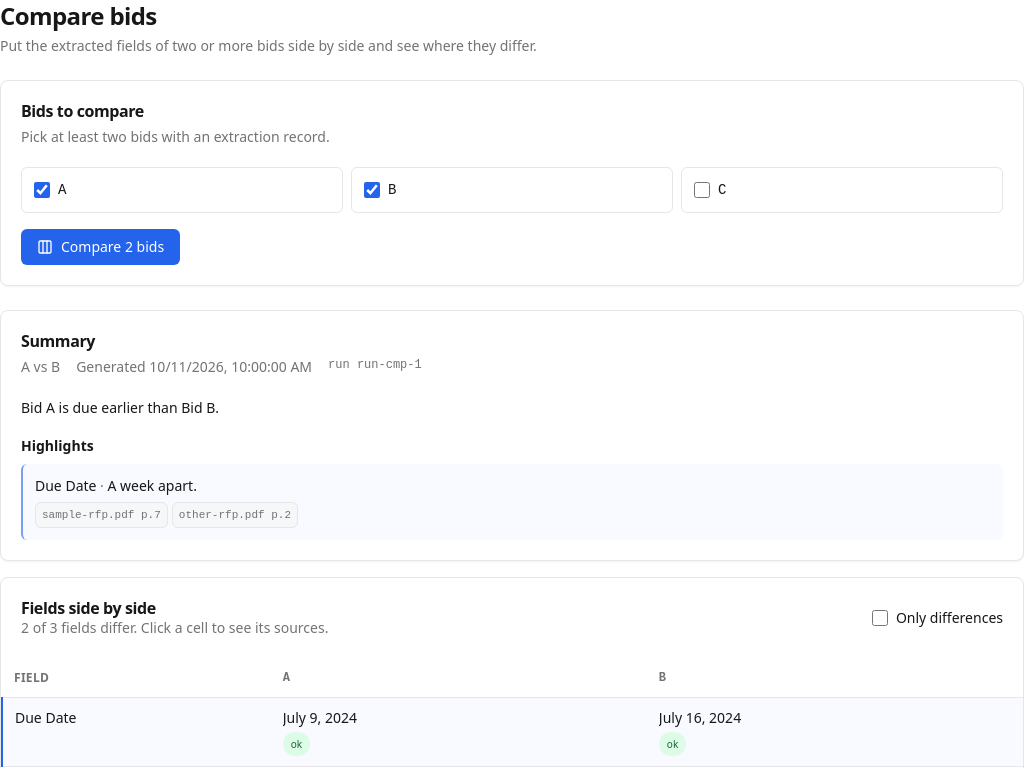
ComparePage › opens the citation drawer with the cell's quote
Click the button with aria-label "citations for Due Date in B".
click(700, 718)  # box [647,698,1023,767]
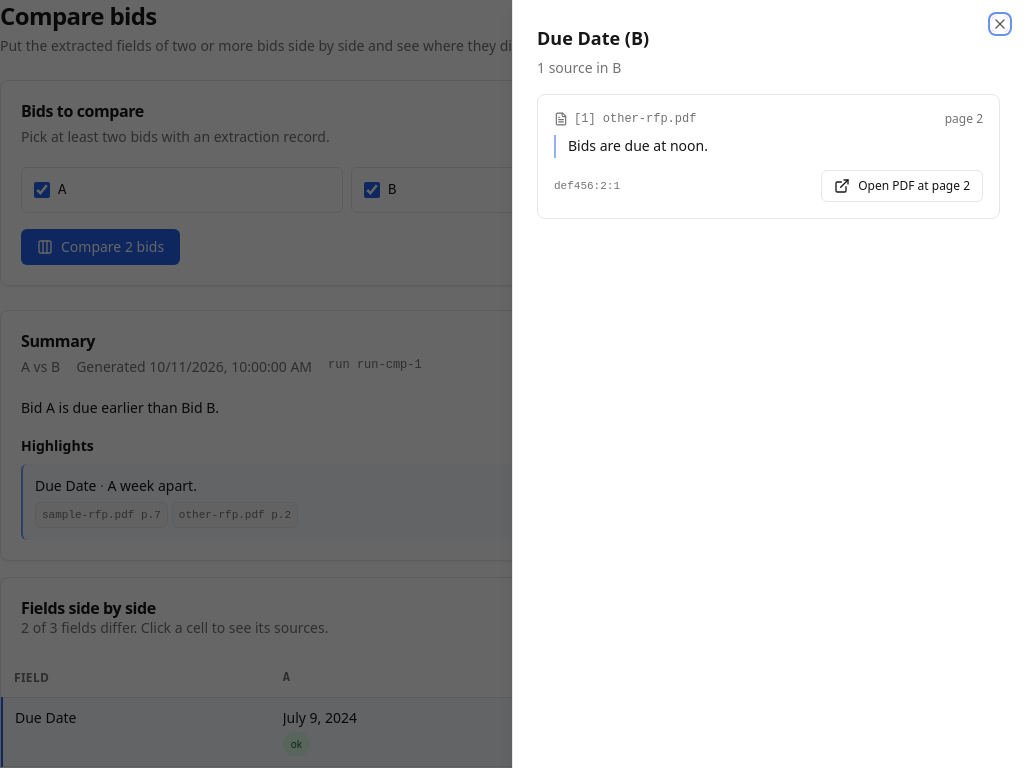
Check: the dialog does not show "Sealed bids will be received until 2:00 PM local time.", box [512,0,1023,767]
Check: the dialog shows "Due Date (B)", box [537,26,649,50]
Check: the dialog shows "Bids are due at noon.", box [568,136,708,155]
